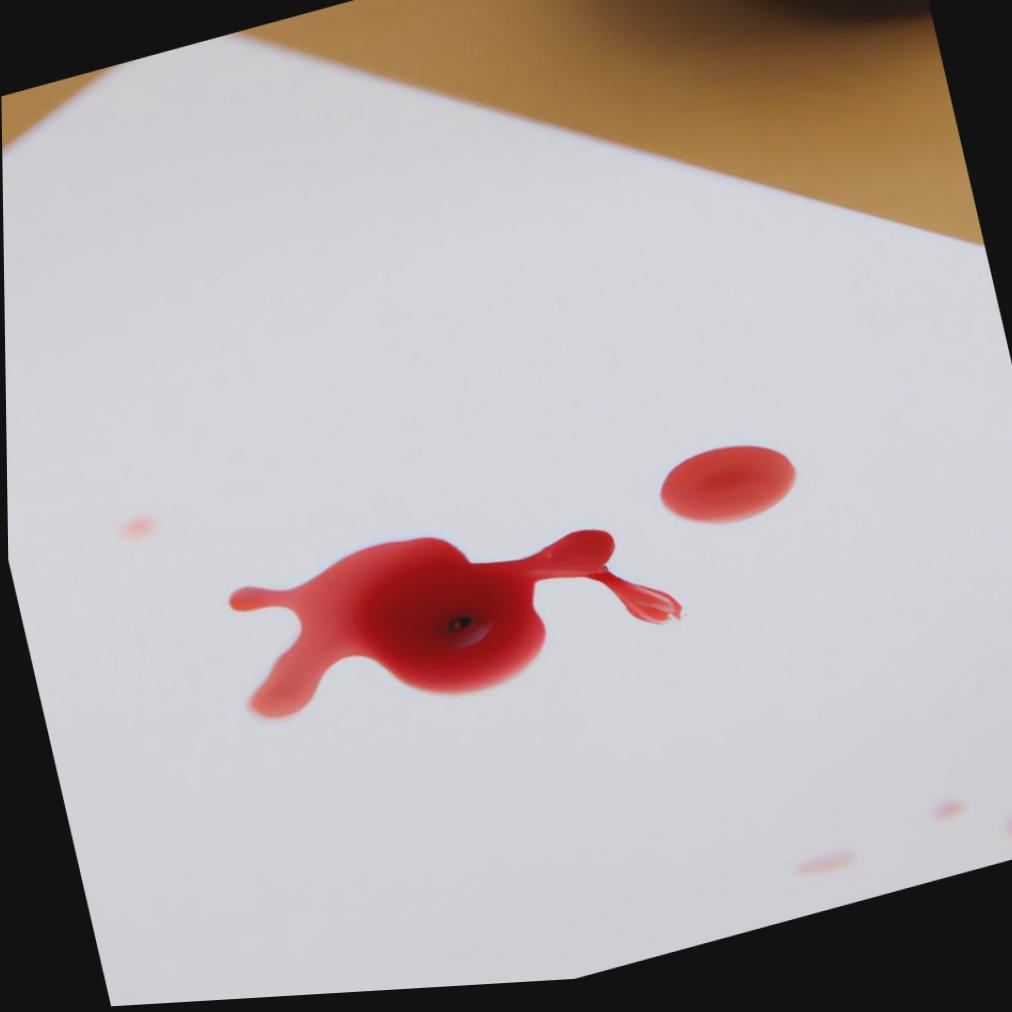Fire: (226, 536, 680, 723), (657, 454, 795, 532)
